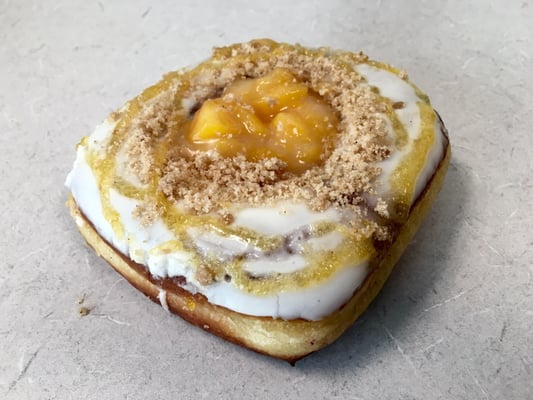soup: (63, 31, 450, 363)
